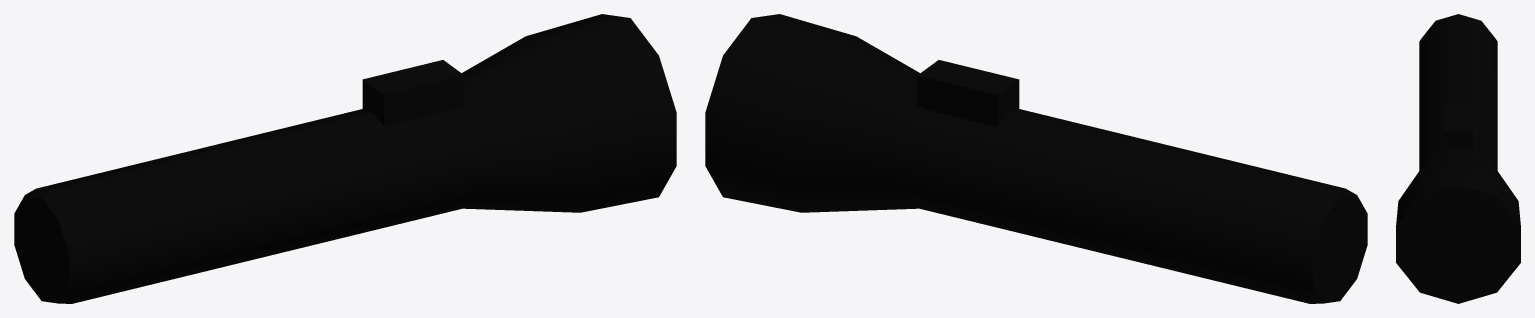
Rendered from SM_flashlight.fbx.
3 views of the same model, side by side, from view 1: azimuth 30°, elevation 25°; view 2: azimuth 150°, elevation 25°; view 3: azimuth 270°, elevation 25° (orthographic). The views are drawn at different scales.
Parts seen in each view (by area): view 1: flashlight; view 2: flashlight; view 3: flashlight.
Boxes of the visible parts, <box> form: flashlight: <box>14,14,676,303</box>; flashlight: <box>705,14,1367,303</box>; flashlight: <box>1396,14,1520,303</box>.
Bounding box in the file's own units: 0.19 × 0.054 × 0.0514.
